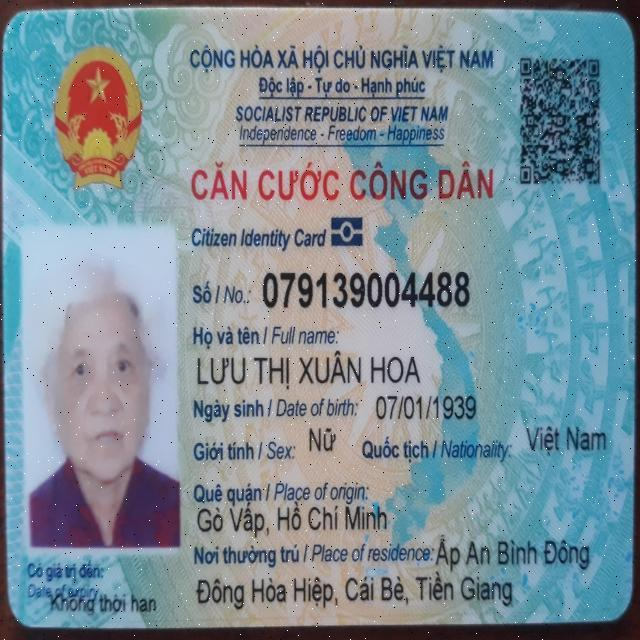current_place: (193, 569, 516, 612), (432, 529, 594, 575)
dob: (369, 390, 483, 431)
expire_date: (48, 593, 166, 619)
gender: (297, 419, 354, 466)
id: (260, 259, 479, 319)
name: (194, 345, 425, 389)
nationality: (521, 413, 614, 463)
origin_place: (190, 504, 399, 539)
